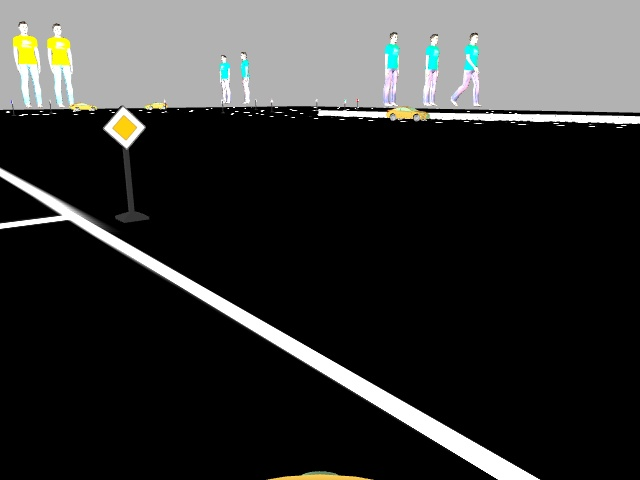Priority: (104, 106, 145, 151)
